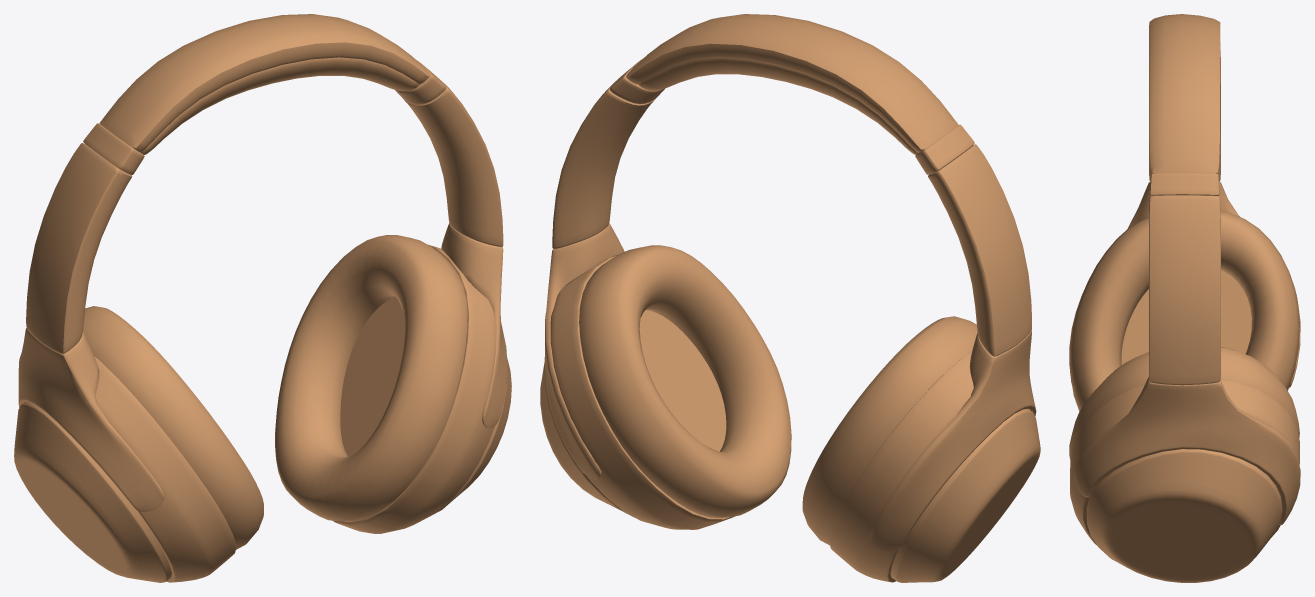
Rendered from ThreejsScene (10).glb.
The picture shows the model from 3 angles, left to right: view 1: azimuth 30°, elevation 25°; view 2: azimuth 150°, elevation 25°; view 3: azimuth 270°, elevation 25°; orthographic projection. The views are drawn at different scales.
Visible parts, largest first — view 1: уховнешнее001; view 2: уховнешнее001; view 3: уховнешнее001.
Boxes of the visible parts, x1,y1,x2,y2 form: уховнешнее001: [14, 14, 511, 582]; уховнешнее001: [540, 14, 1040, 582]; уховнешнее001: [1069, 14, 1300, 582].
Bounding box in the file's own units: 4.3 × 4.62 × 1.99.
